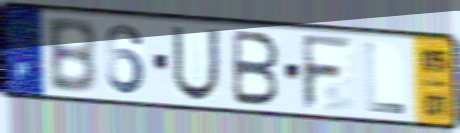6: (105, 22, 148, 97)
B: (44, 16, 100, 97), (230, 28, 282, 109)
F: (299, 32, 355, 114)
L: (364, 40, 408, 117)
U: (170, 23, 222, 103)
